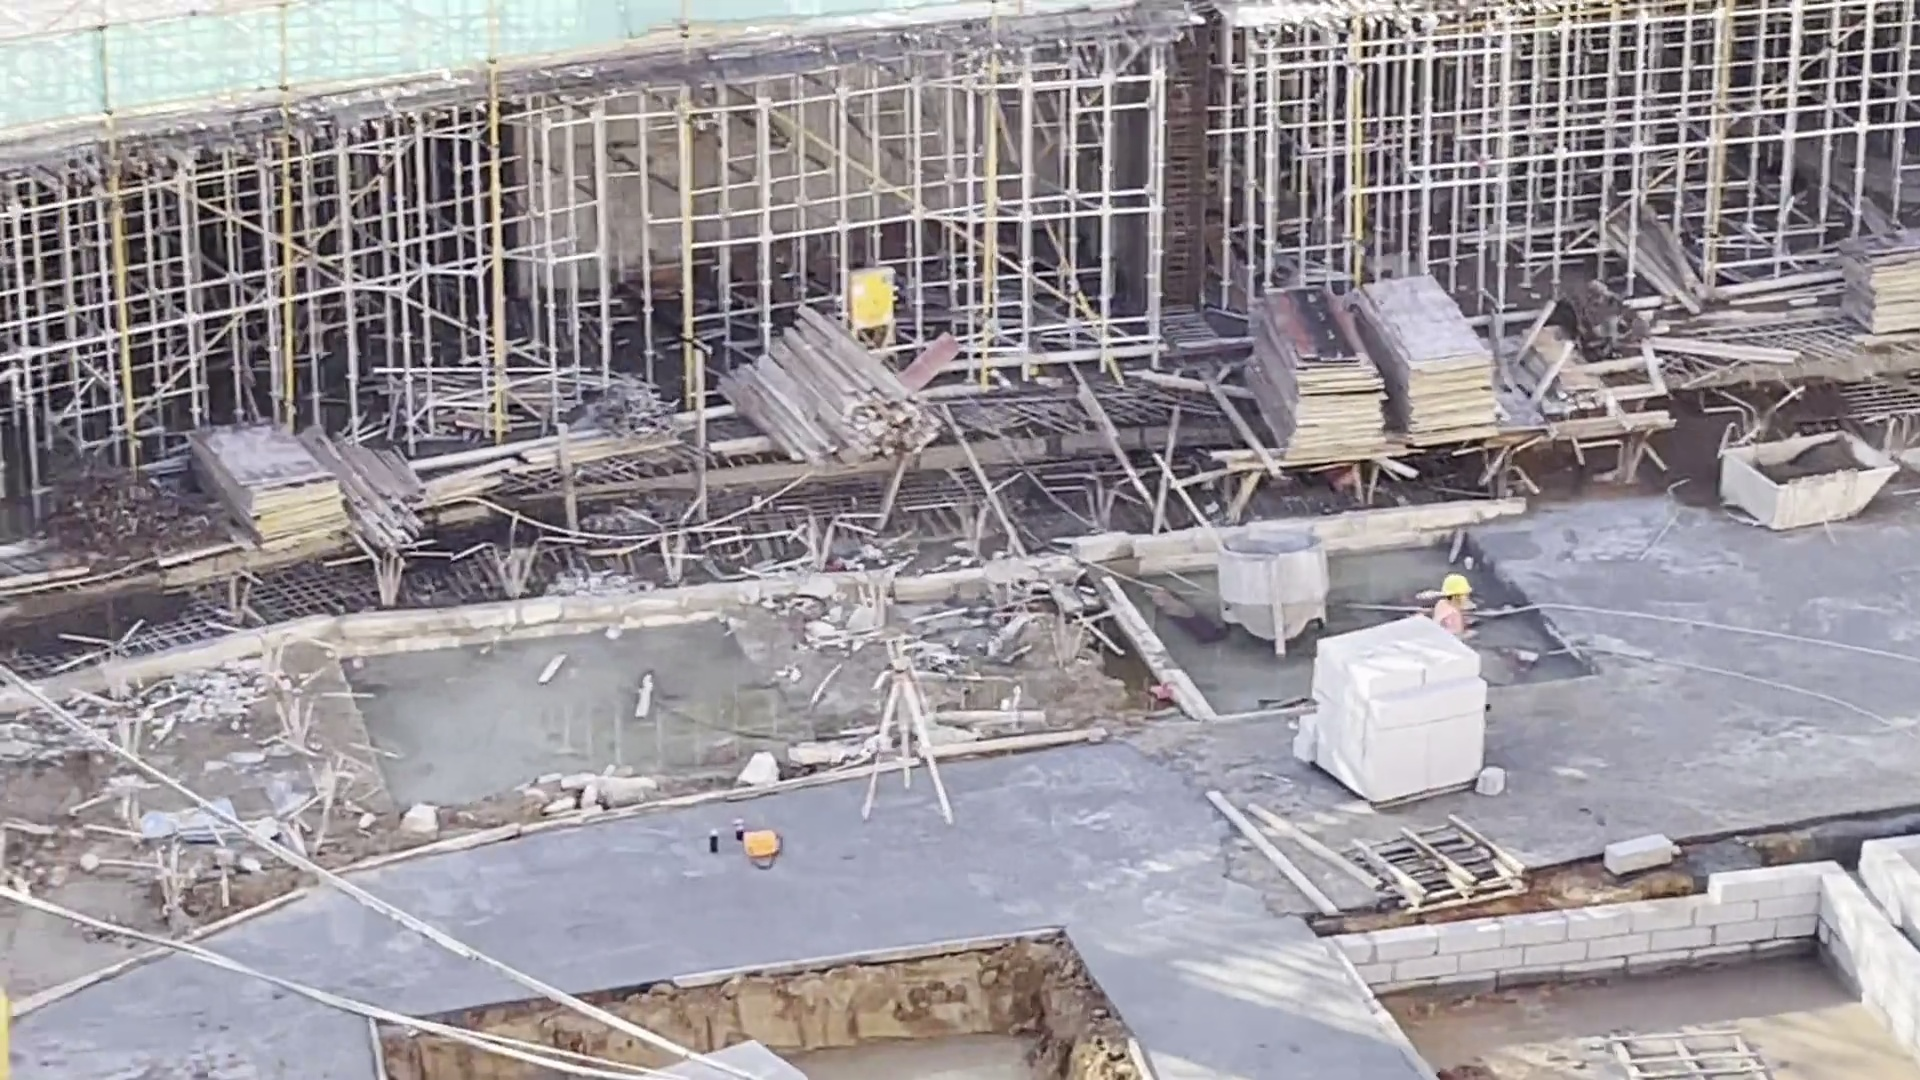board: (1234, 286, 1395, 465), (1355, 268, 1506, 445), (184, 415, 359, 553), (1837, 223, 1920, 341)
brick: (1305, 642, 1486, 811)
ebox: (844, 261, 895, 339)
helmet: (1440, 574, 1476, 594)
hopper: (1717, 427, 1900, 534), (1214, 526, 1328, 661)
person: (1433, 571, 1471, 631)
wood: (710, 305, 948, 479), (344, 437, 436, 569)
